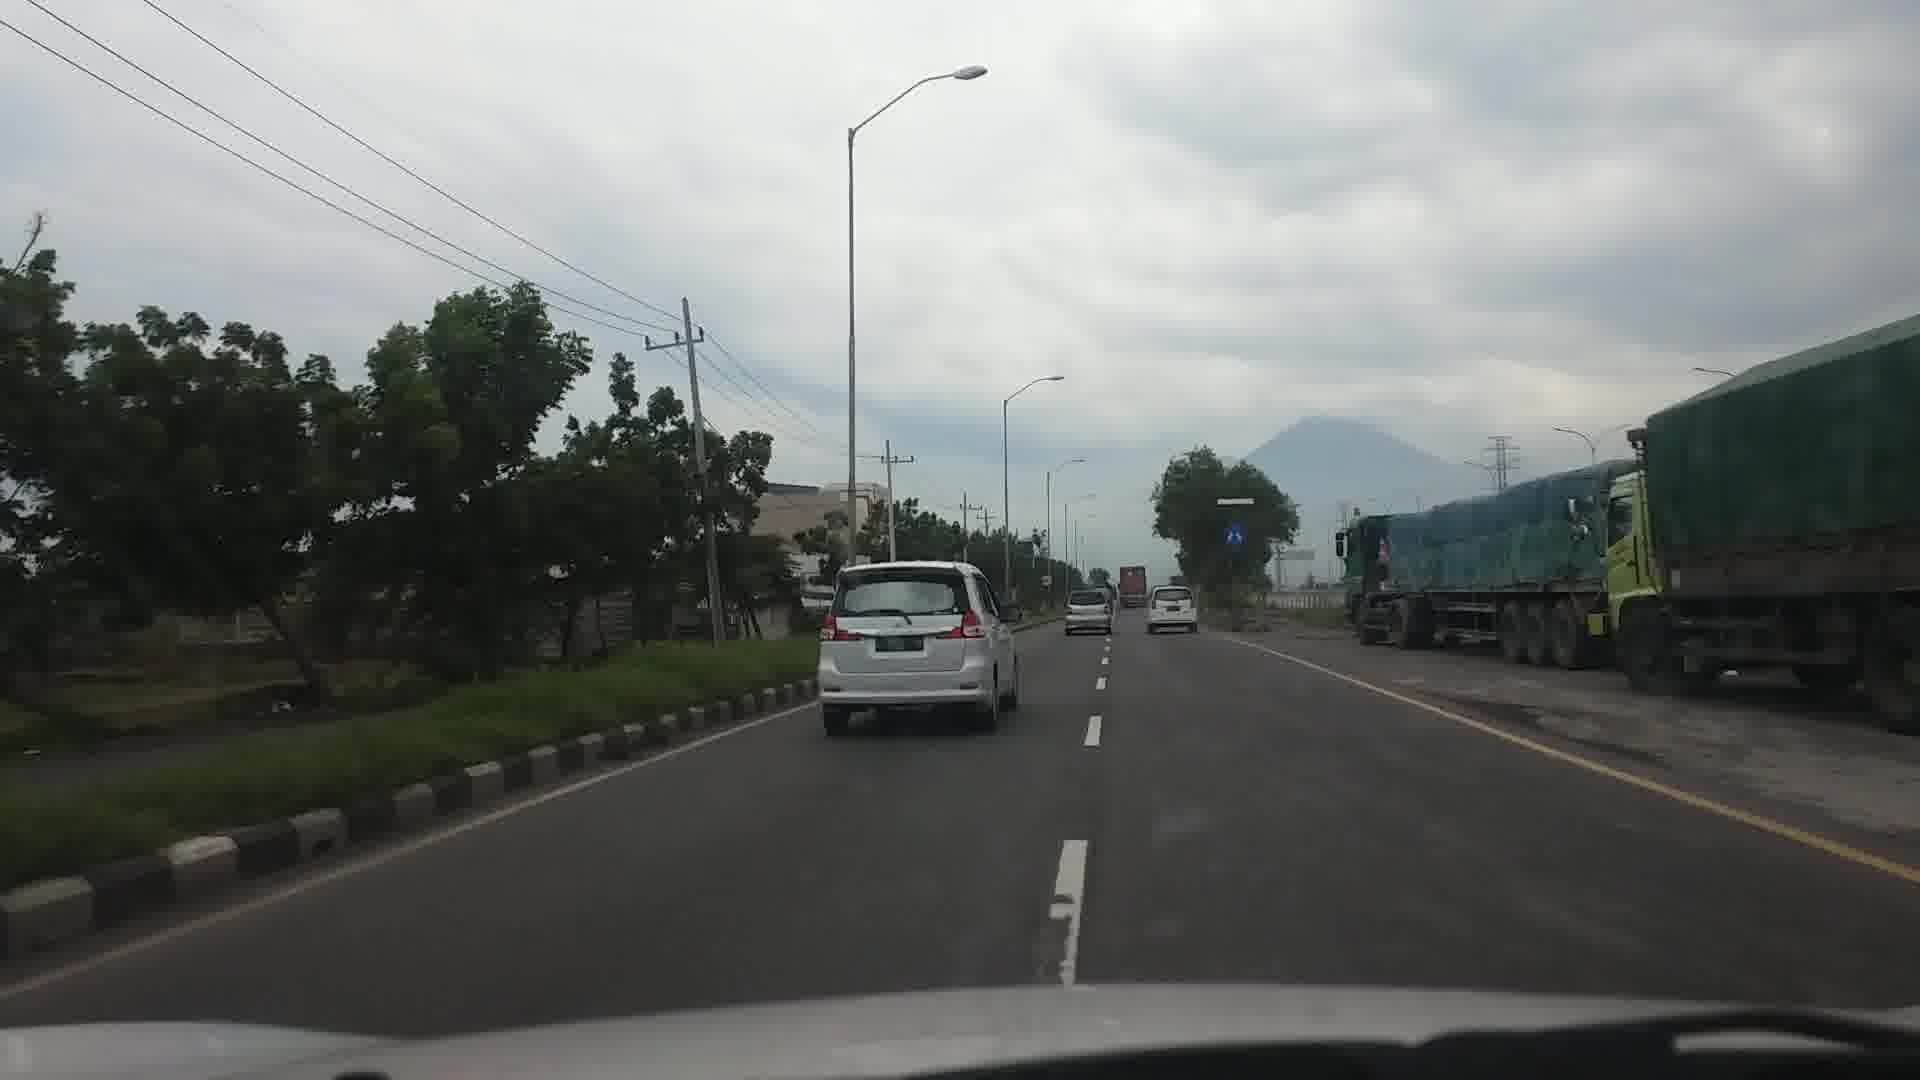plate_positive: (876, 636, 923, 651)
